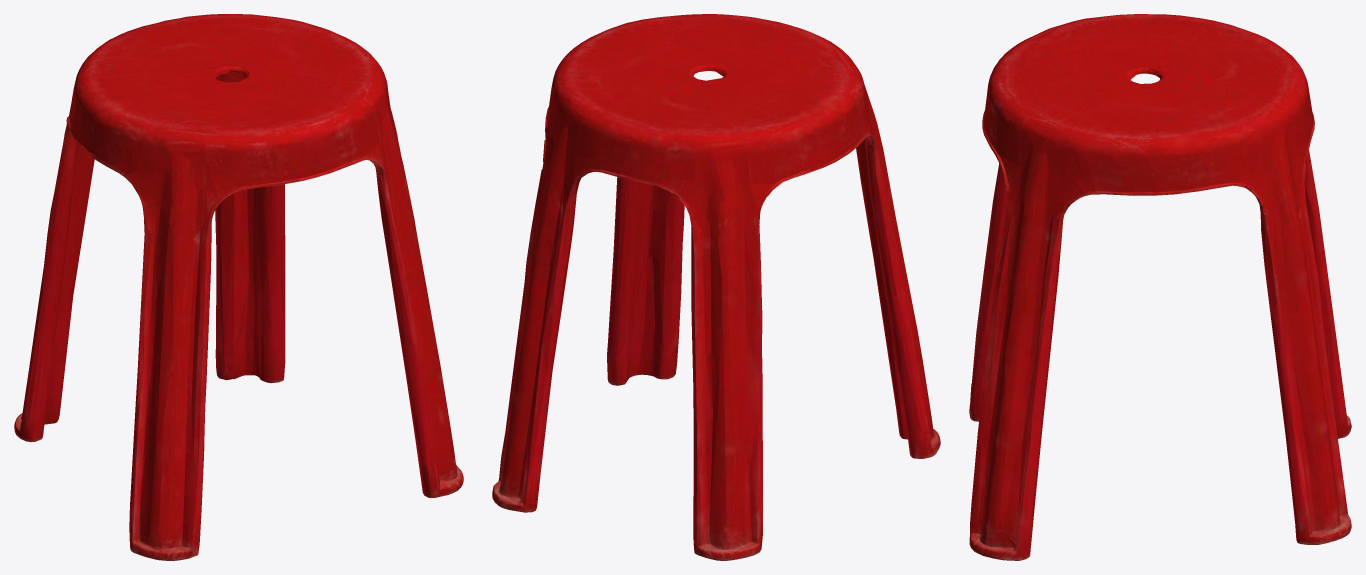
Rendered from w4stool.glb.
The picture shows the model from 3 angles, left to right: view 1: azimuth 30°, elevation 25°; view 2: azimuth 150°, elevation 25°; view 3: azimuth 270°, elevation 25°; orthographic projection. The views are drawn at different scales.
Visible parts, largest first — view 1: output_unwrapped; view 2: output_unwrapped; view 3: output_unwrapped.
Part boxes in pixels (x1,y1,x2,y2): output_unwrapped: [14, 14, 463, 560]; output_unwrapped: [492, 14, 940, 560]; output_unwrapped: [969, 14, 1351, 560].
Bounding box in the file's own units: 0.3921 × 0.45 × 0.3859.
1 material, 1 textured.
